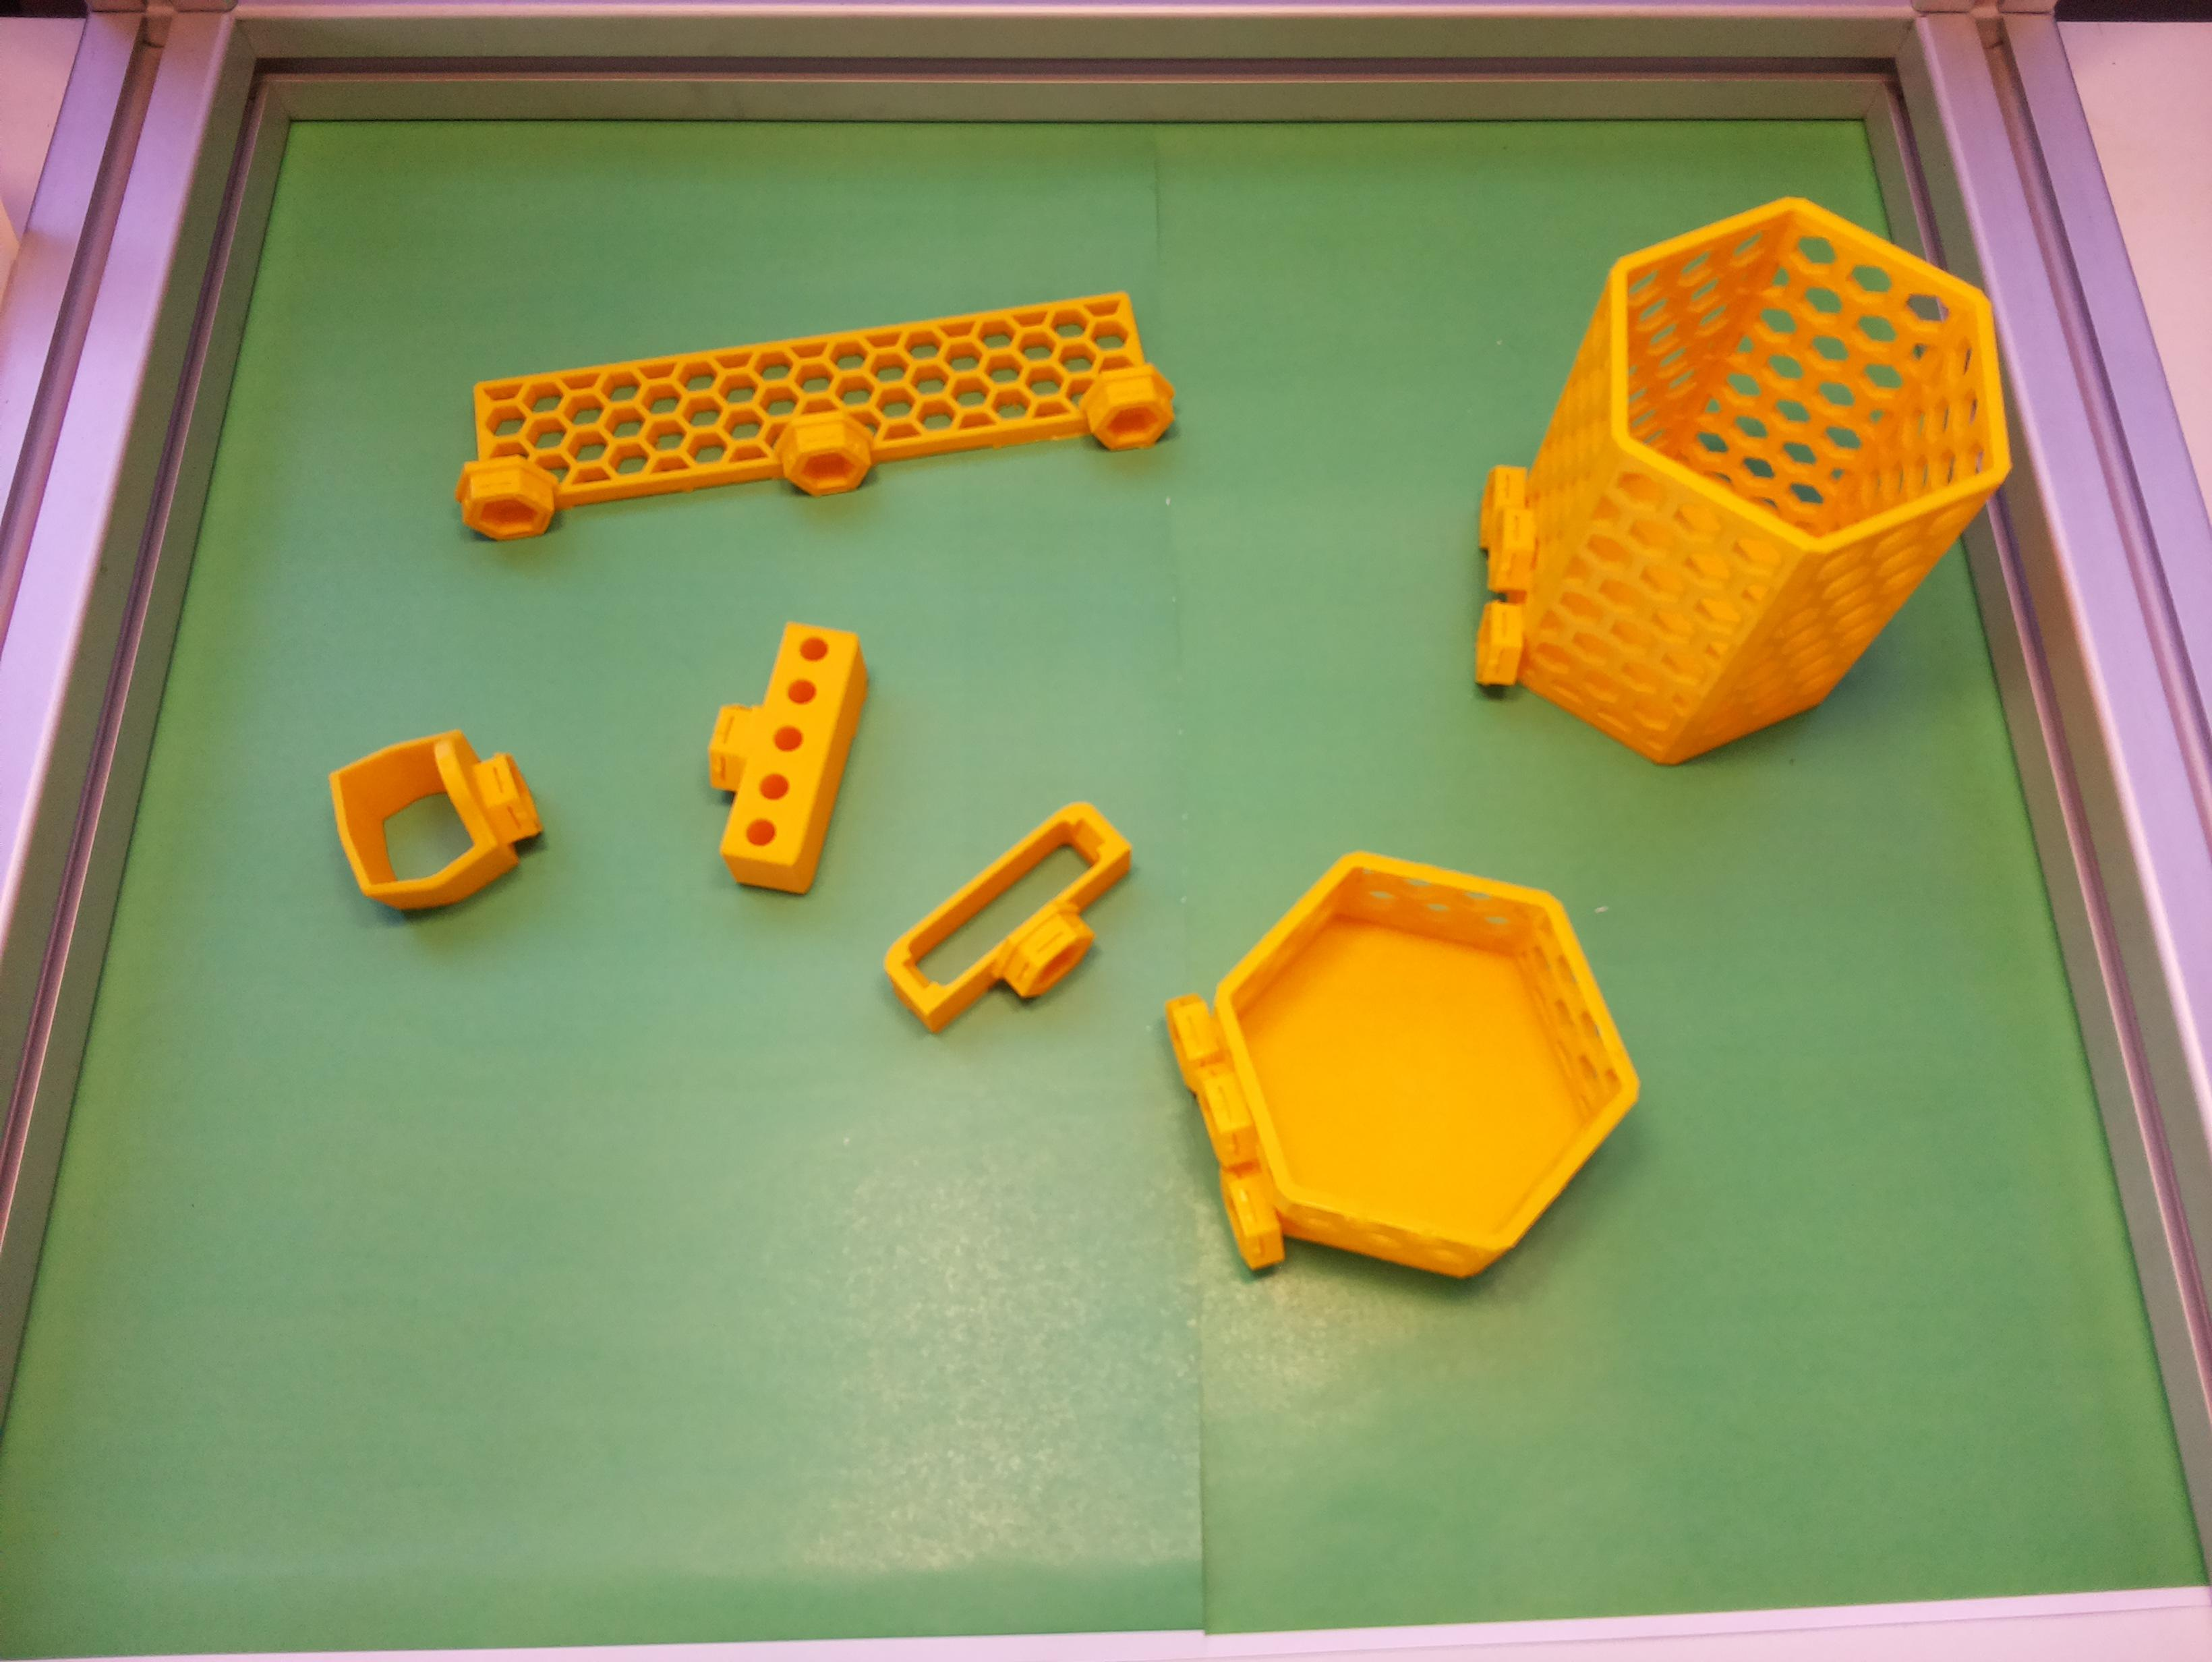bit_holder: (676, 604, 882, 903)
bottle_holder: (1110, 784, 1683, 1358)
cup_holder: (1398, 124, 2081, 859)
cutter_holder: (869, 780, 1163, 1068)
scissor_holder: (313, 702, 559, 936)
tool_holder: (440, 286, 1180, 545)
